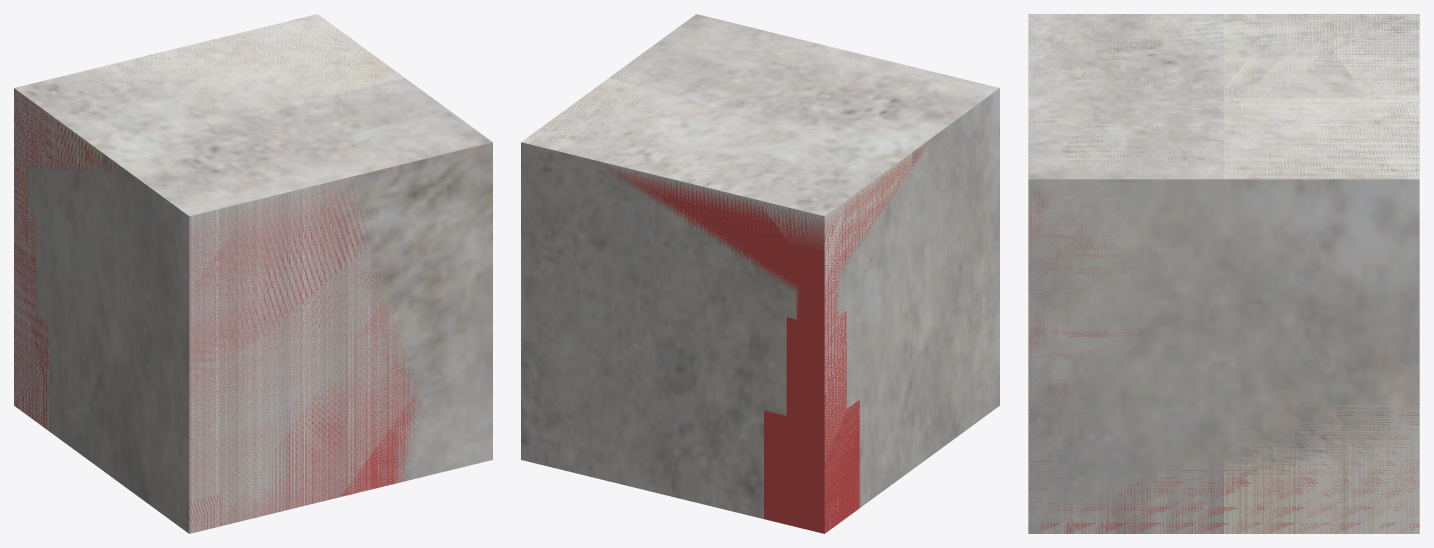
The model's file is warehouse_wall_trim_corner_02.DAE.
3 views of the same model, side by side, from view 1: azimuth 30°, elevation 25°; view 2: azimuth 150°, elevation 25°; view 3: azimuth 270°, elevation 25° (orthographic). The views are drawn at different scales.
Parts seen in each view (by area): view 1: warehouse_wall_trim_01_corner02, colbox-01, bounds; view 2: warehouse_wall_trim_01_corner02, bounds, colbox-01; view 3: warehouse_wall_trim_01_corner02, colbox-01, bounds.
Part boxes in pixels (left/top/right/bottom): warehouse_wall_trim_01_corner02: left=14, top=14, right=492, bottom=533; colbox-01: left=14, top=14, right=485, bottom=533; bounds: left=14, top=89, right=423, bottom=533; warehouse_wall_trim_01_corner02: left=521, top=14, right=999, bottom=518; bounds: left=592, top=145, right=928, bottom=533; colbox-01: left=523, top=14, right=966, bottom=532; warehouse_wall_trim_01_corner02: left=1028, top=14, right=1419, bottom=533; colbox-01: left=1028, top=14, right=1419, bottom=533; bounds: left=1028, top=190, right=1419, bottom=533.
Bounding box in the file's own units: 80 × 80 × 80.
3 materials, 2 textured.
